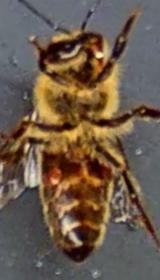varroa_mite: (34, 155, 68, 191)
